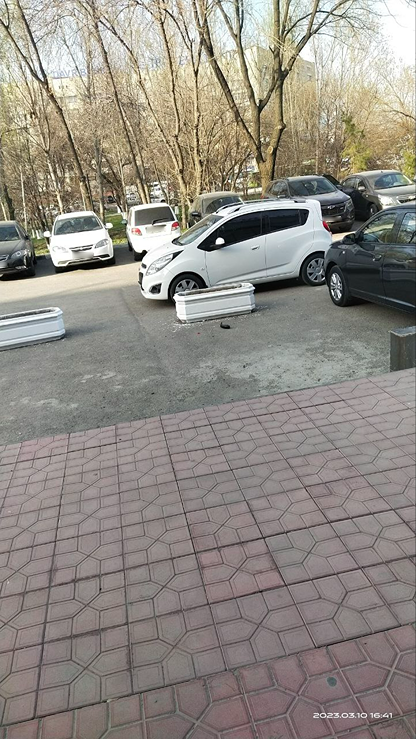car: (134, 188, 325, 301), (314, 215, 416, 320), (265, 163, 346, 221), (116, 200, 187, 253), (46, 213, 112, 262), (352, 160, 416, 210), (1, 213, 35, 274)
tree: (196, 0, 340, 151), (121, 0, 215, 172), (0, 0, 79, 172)
